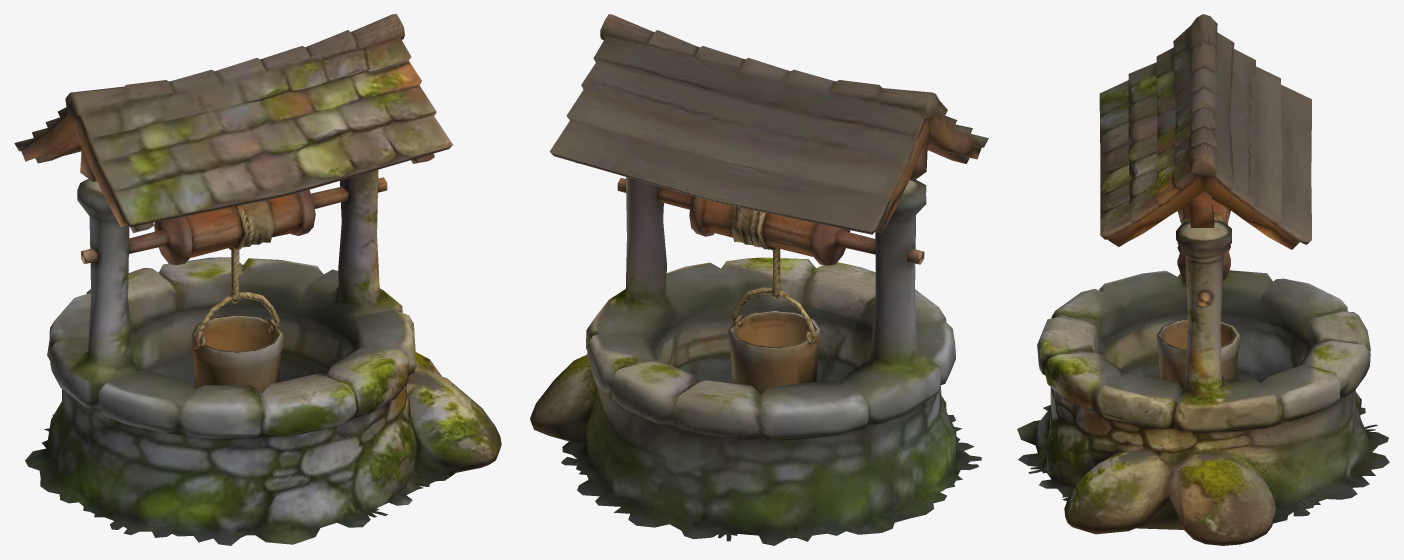
File: civic_well.glb
3 views of the same model, side by side, from view 1: azimuth 30°, elevation 25°; view 2: azimuth 150°, elevation 25°; view 3: azimuth 270°, elevation 25° (orthographic). The views are drawn at different scales.
Parts seen in each view (by area): view 1: tripo_node_acf6daae-aed0-4367-a713-ef258dc1bd48; view 2: tripo_node_acf6daae-aed0-4367-a713-ef258dc1bd48; view 3: tripo_node_acf6daae-aed0-4367-a713-ef258dc1bd48.
Part boxes in pixels (box(x1,y1,x2,y2)): tripo_node_acf6daae-aed0-4367-a713-ef258dc1bd48: box(14, 14, 501, 545); tripo_node_acf6daae-aed0-4367-a713-ef258dc1bd48: box(530, 14, 988, 545); tripo_node_acf6daae-aed0-4367-a713-ef258dc1bd48: box(1017, 14, 1389, 545).
Bounding box in the file's own units: 3.21 × 3.2 × 2.92.
1 material, 1 textured.
